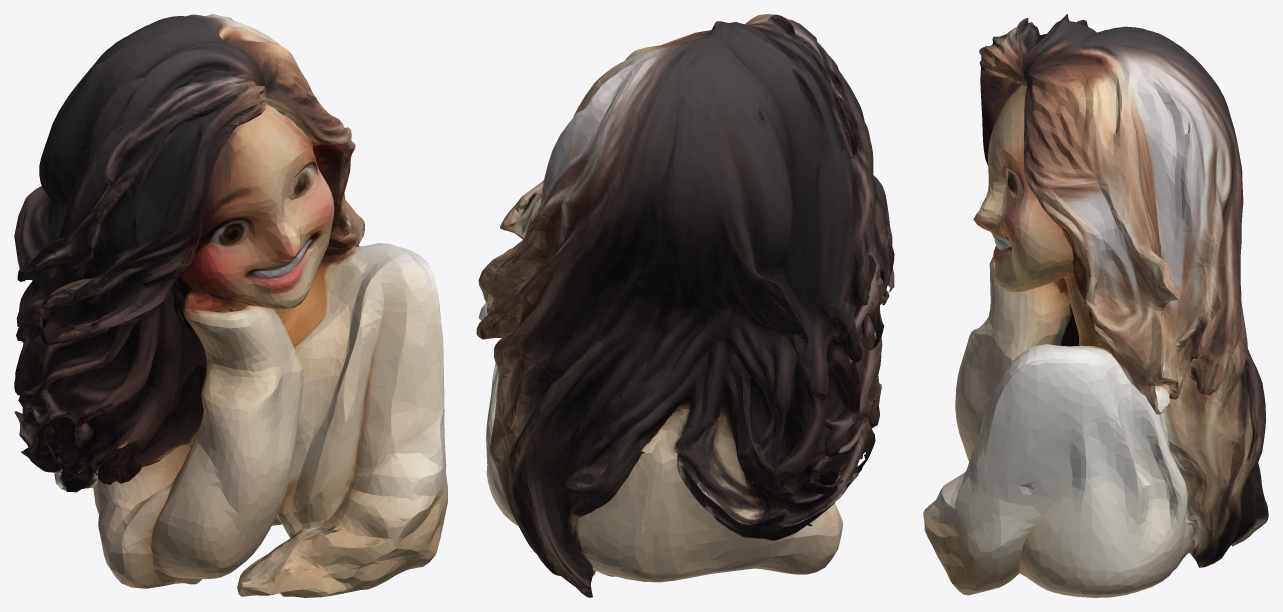
File: character-from-her-reference.glb
The picture shows the model from 3 angles, left to right: view 1: azimuth 30°, elevation 25°; view 2: azimuth 150°, elevation 25°; view 3: azimuth 270°, elevation 25°; orthographic projection. The views are drawn at different scales.
Parts seen in each view (by area): view 1: world; view 2: world; view 3: world.
Boxes of the visible parts, x1,y1,x2,y2 form: world: [14, 14, 447, 597]; world: [476, 14, 894, 597]; world: [923, 14, 1268, 597].
Bounding box in the file's own units: 0.7538 × 0.9958 × 0.629.
Materials: 1 (1 with a texture image).
